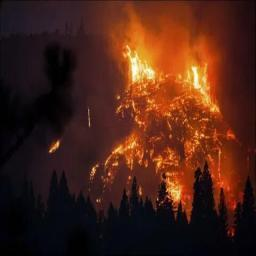Large fire: (121, 27, 220, 211)
Low smoke: (122, 3, 243, 42)
Small fire: (43, 138, 64, 157)
